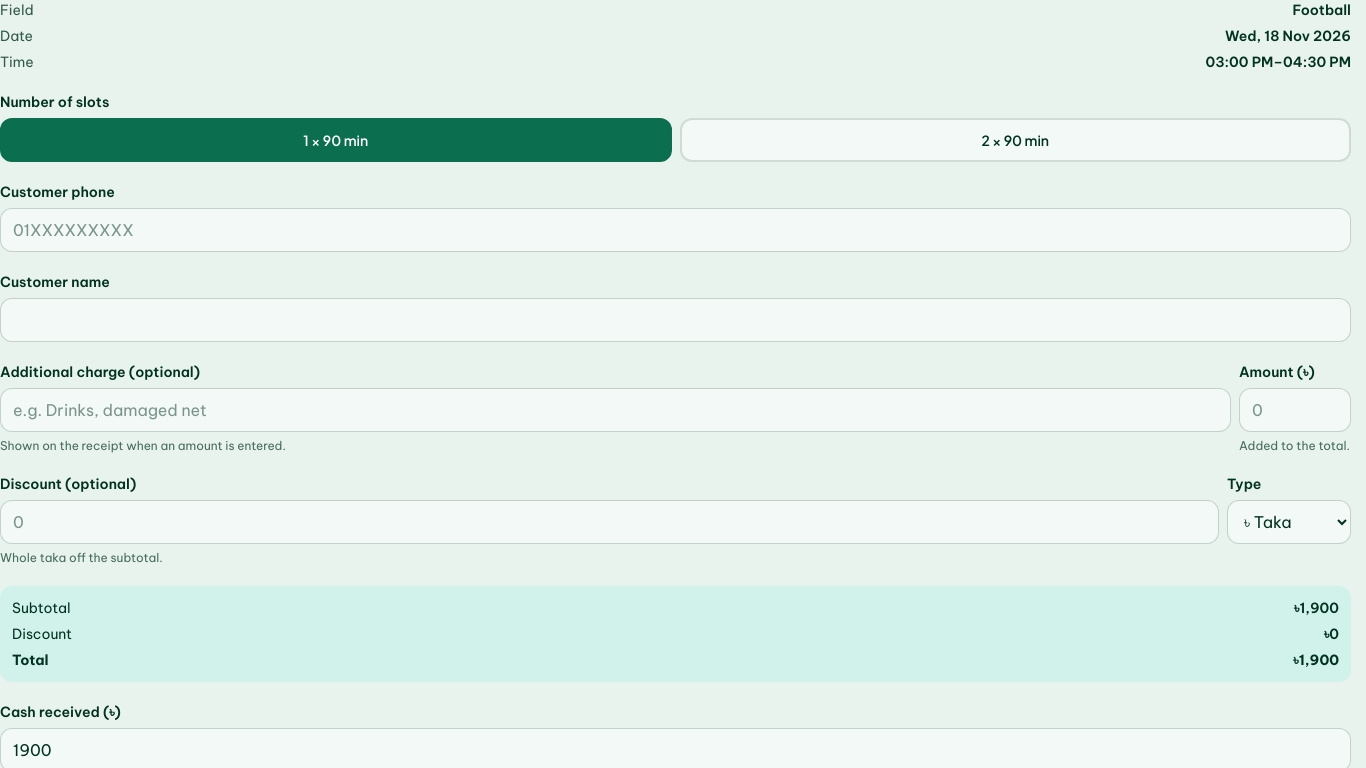
Test: WalkInForm: no advance › No advance ৳0 books with zero cash and shows the full balance due
Type "01733334444" into the field labelled "Customer phone" at (676, 230), box 0,208 -> 1351,252
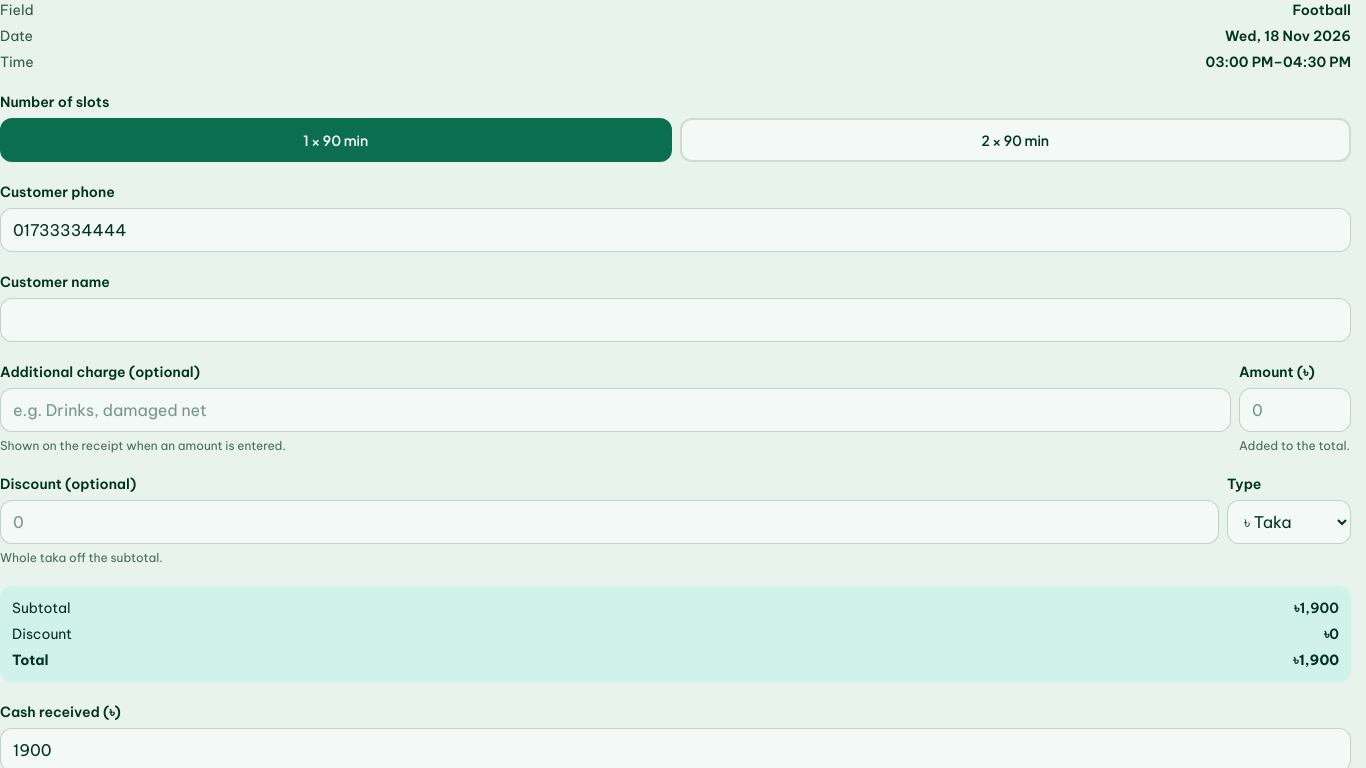
Type "Karim" into the field labelled "Customer name" at (676, 320), box 0,298 -> 1351,342
(page scrolled)
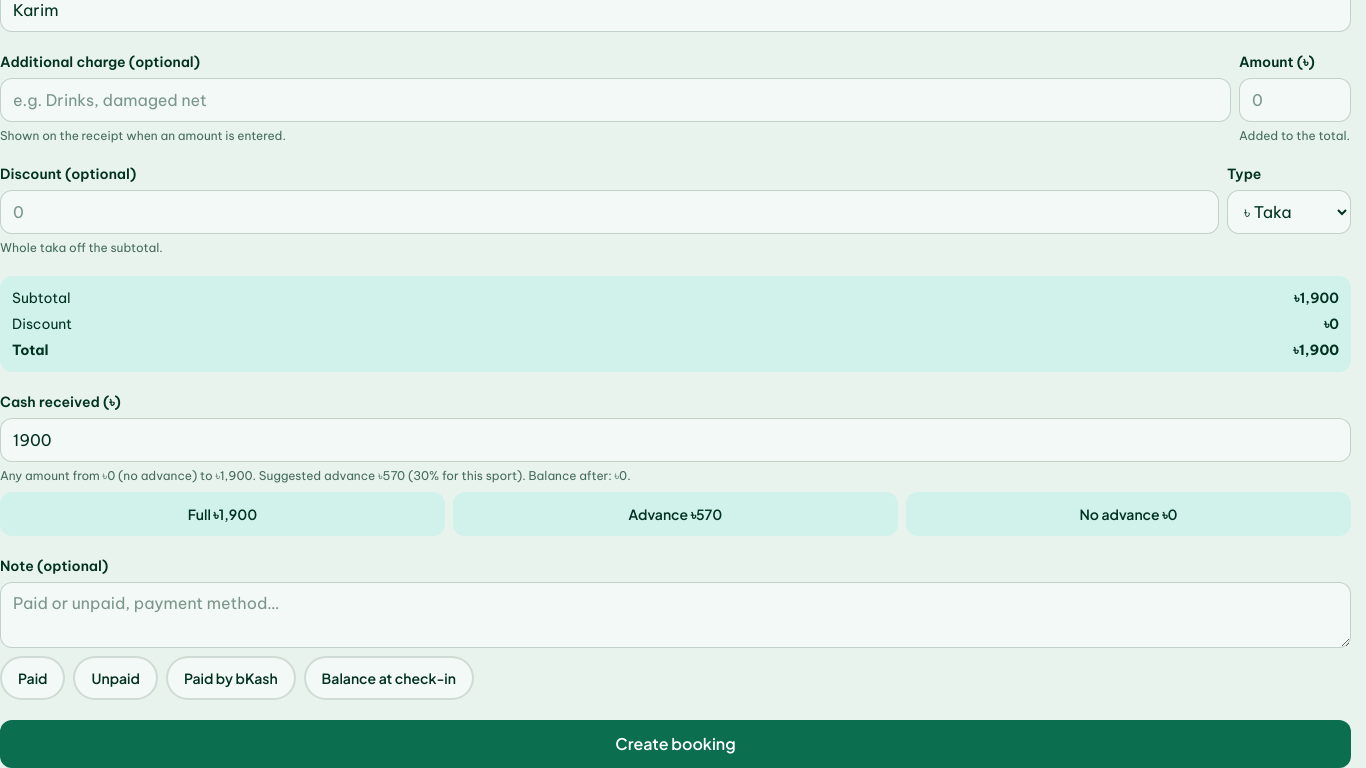
Click the button "No advance ৳0" at (1128, 514), box 906,492 -> 1351,536
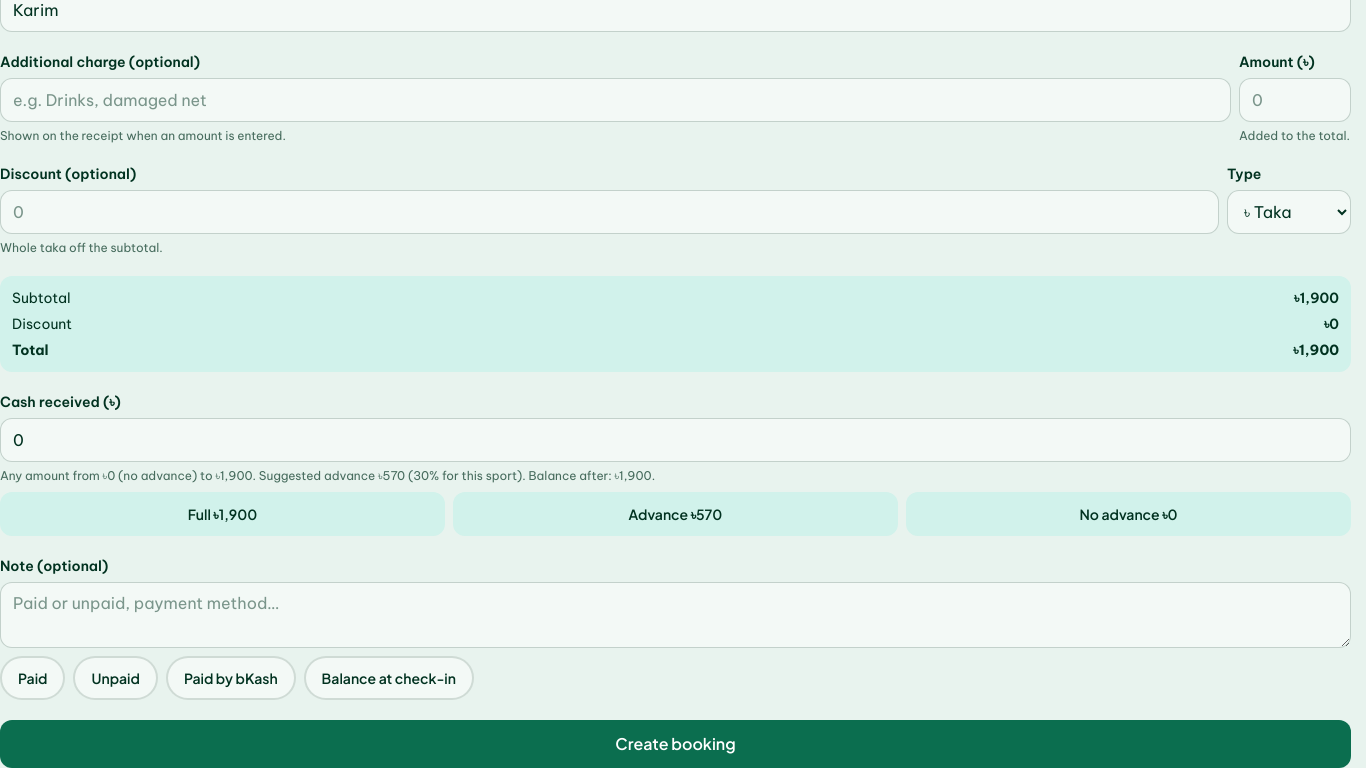
Check: the number field labelled "Cash received (৳)" holds "0", box 0,418 -> 1351,462
Check: the text "Balance after: ৳1,900." is shown, box 0,468 -> 655,483
Click the button "Create booking" at (676, 744), box 0,720 -> 1351,767
(page scrolled)
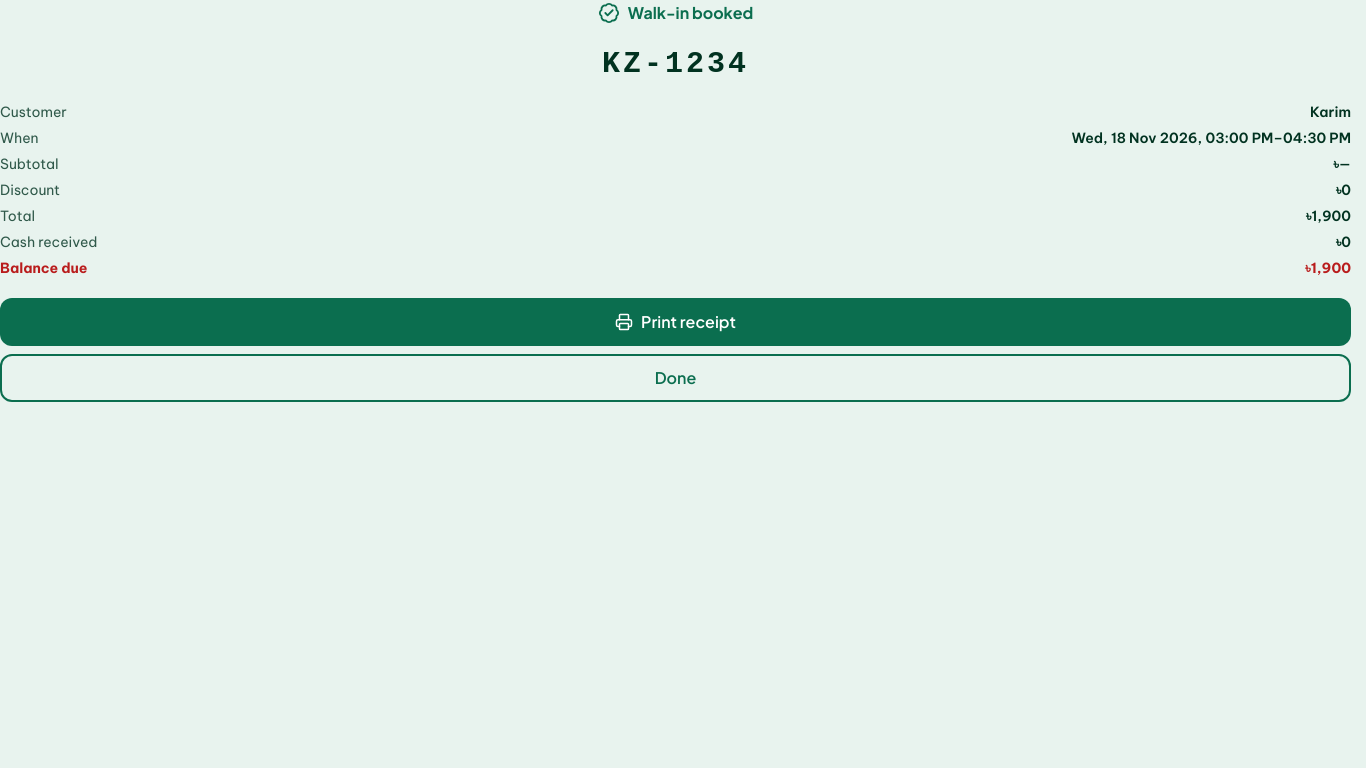
Check: the text "Walk-in booked" is shown, box 598,0 -> 753,26
